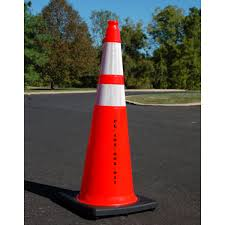cones: (52, 15, 161, 222)
